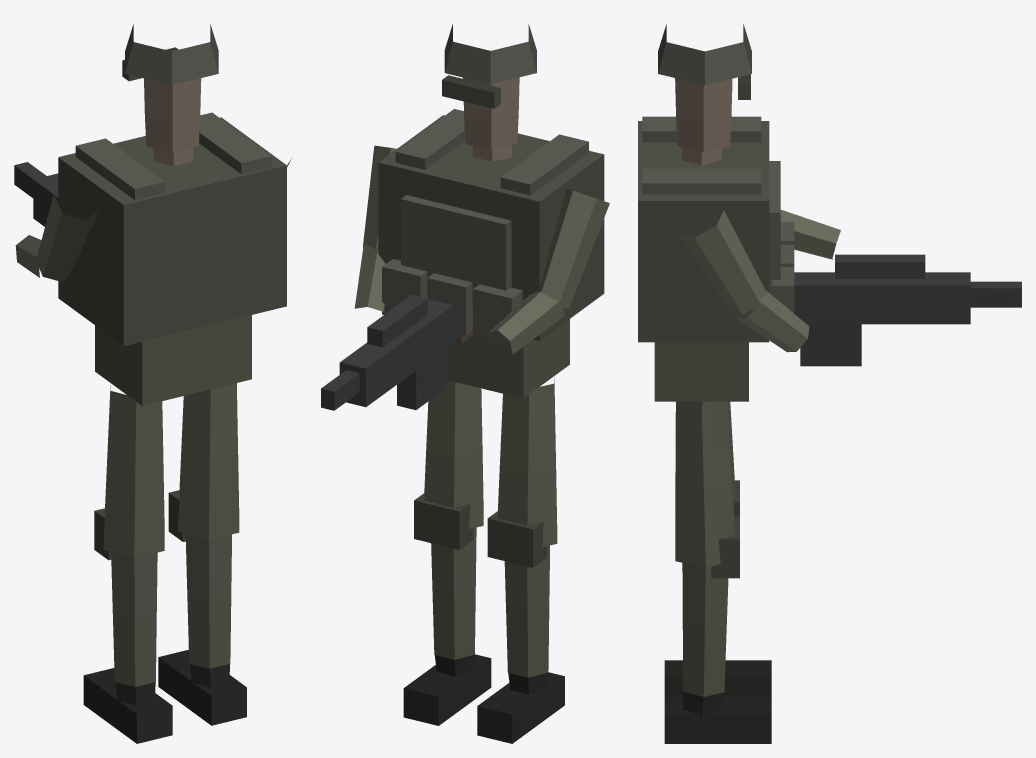
Rendered from soldier.glb.
3 views of the same model, side by side, from view 1: azimuth 30°, elevation 25°; view 2: azimuth 150°, elevation 25°; view 3: azimuth 270°, elevation 25° (orthographic).
Visible parts, largest first — view 1: soldier.001; view 2: soldier.001; view 3: soldier.001.
Boxes of the visible parts, bbox=[...] form: soldier.001: bbox=[14, 24, 292, 743]; soldier.001: bbox=[321, 24, 609, 743]; soldier.001: bbox=[638, 24, 1021, 743].
Size of the model in its own units: 0.6504 by 1.84 by 0.935.
